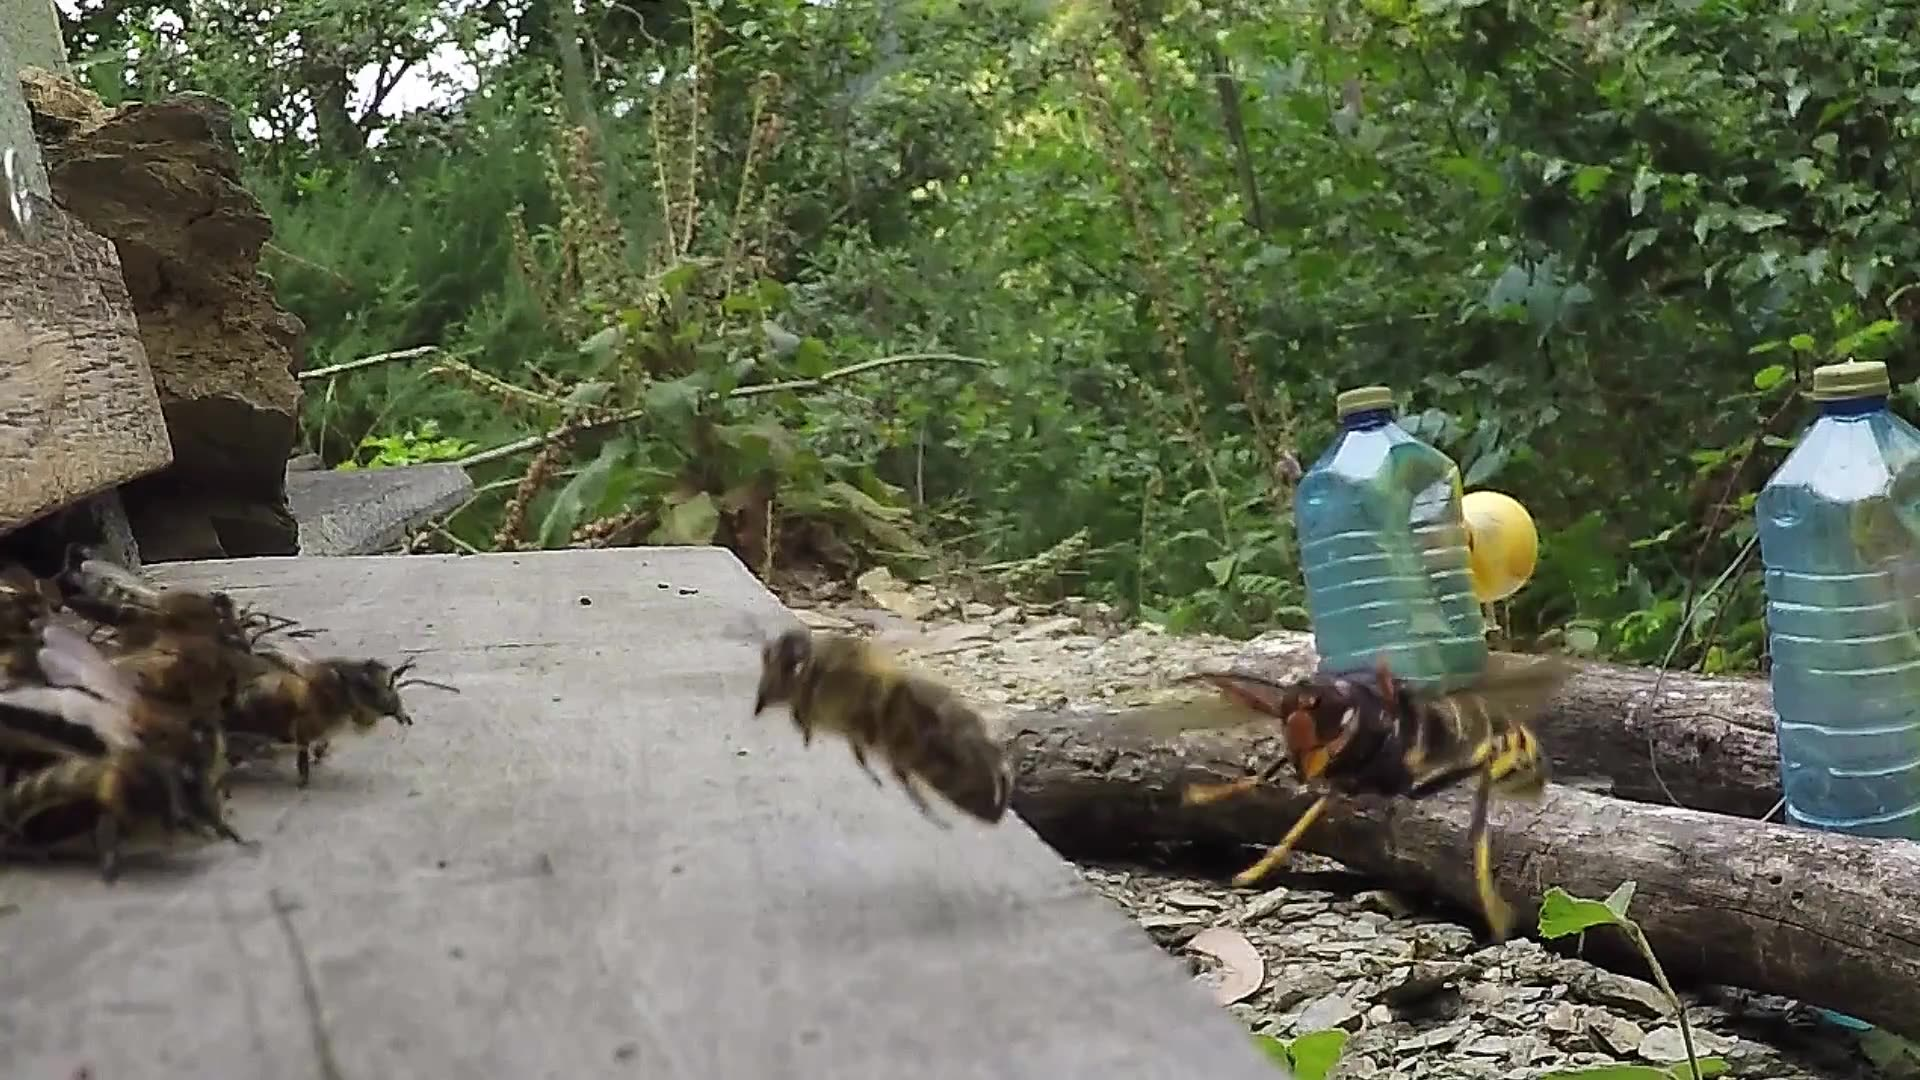bee: (1, 541, 233, 870), (740, 612, 1023, 832), (236, 636, 433, 761)
hornet: (1228, 641, 1586, 847)
